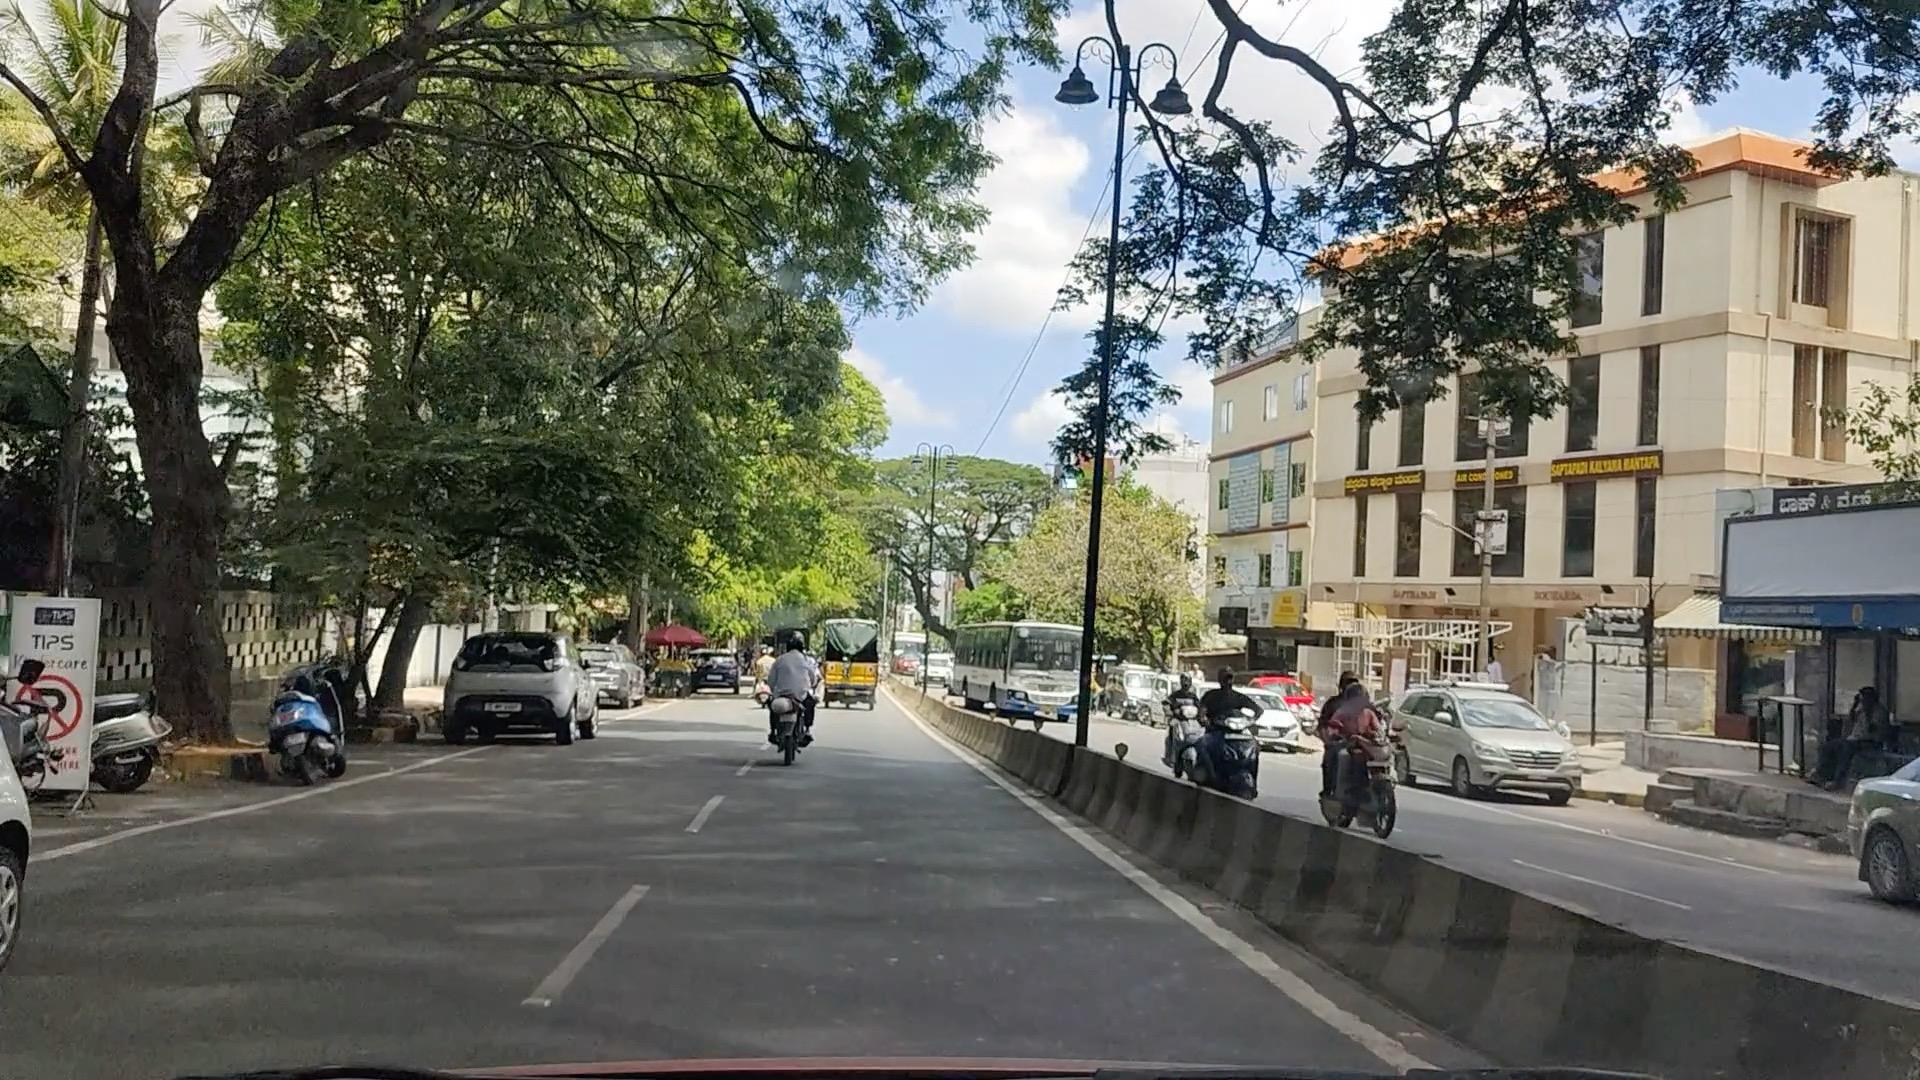LMV: (440, 637, 624, 741), (754, 624, 829, 775)
